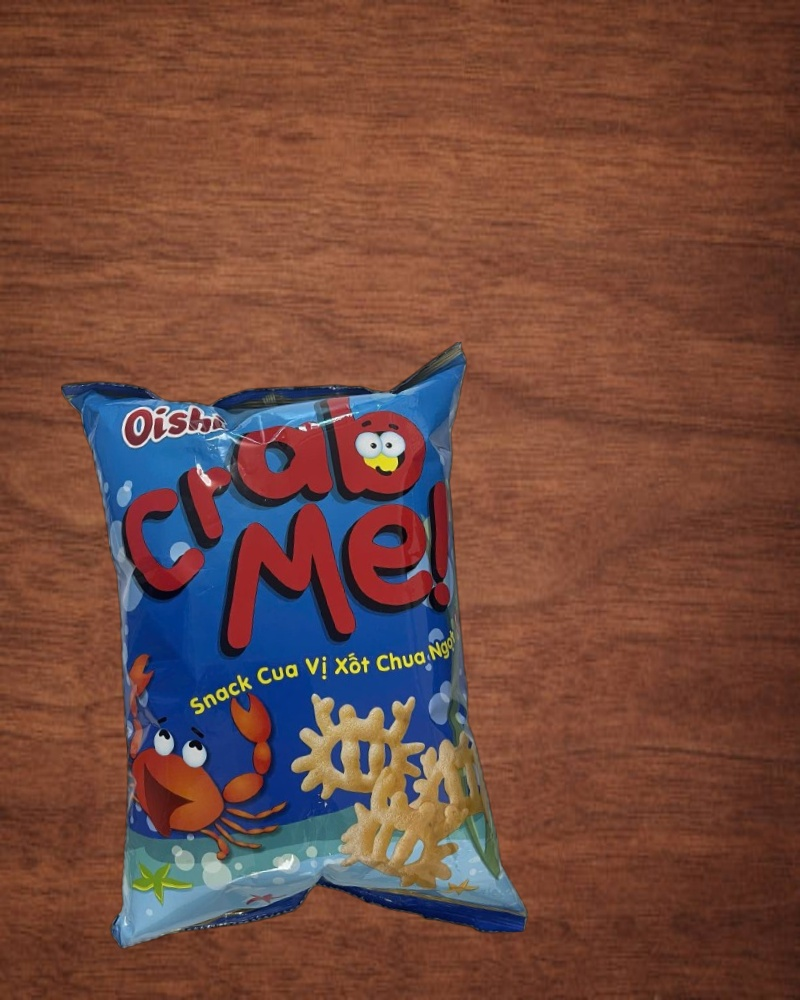Snack chay: (61, 341, 530, 969)
